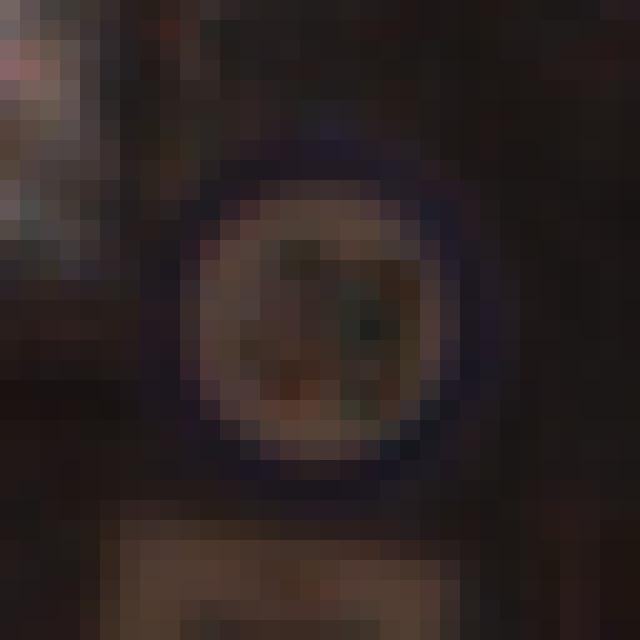SPEED-LIMIT-80: (158, 160, 488, 498)
